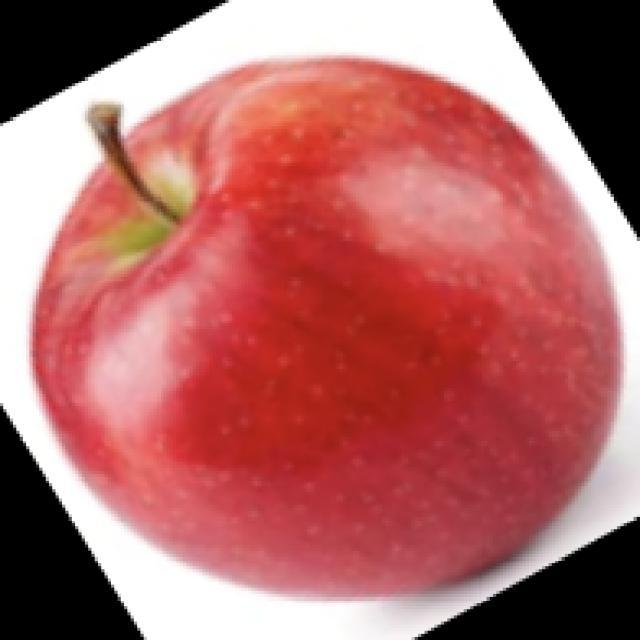Fresh Apple: (28, 47, 630, 595)
